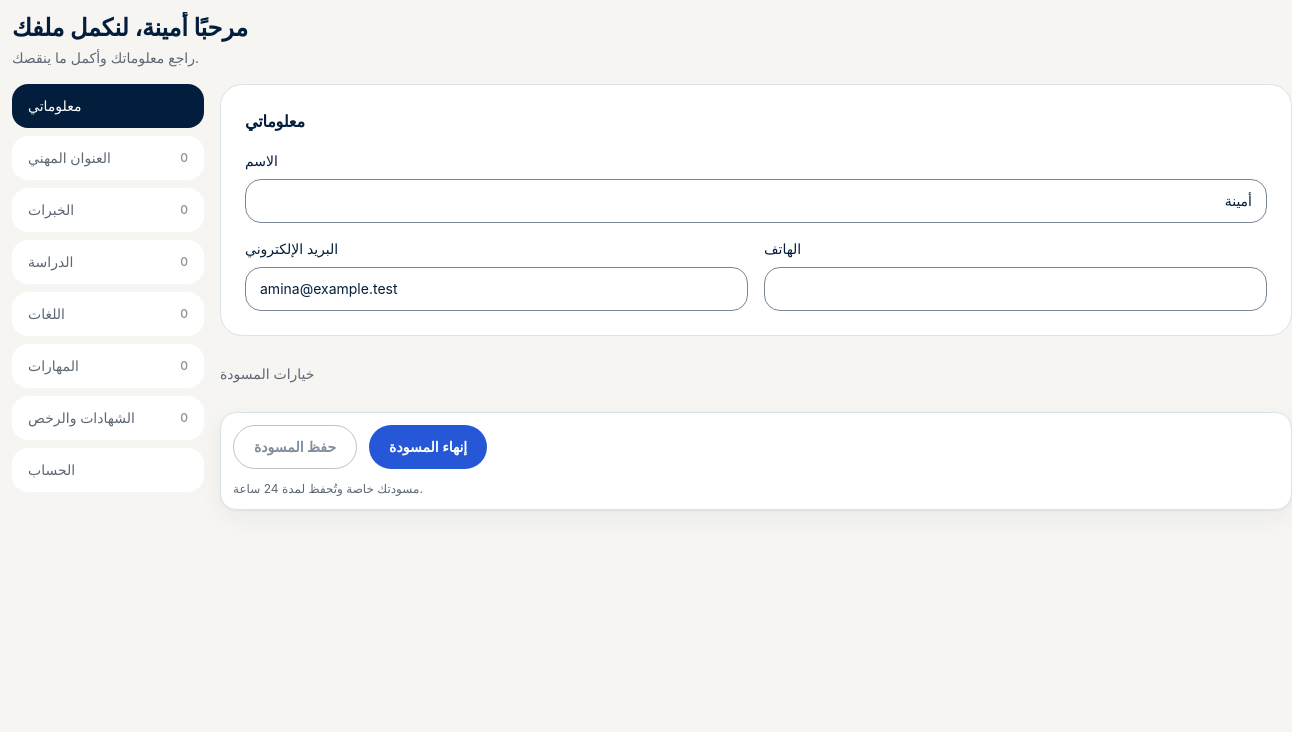
it: guest professional draft › keeps failed saves editable and allows an explicit retry
The width and height of the screenshot is (1292, 732).
Replace the text in the field labelled "الاسم" with "محفوظ محليا" at (756, 201), box x1=245 y1=179 x2=1267 y2=223
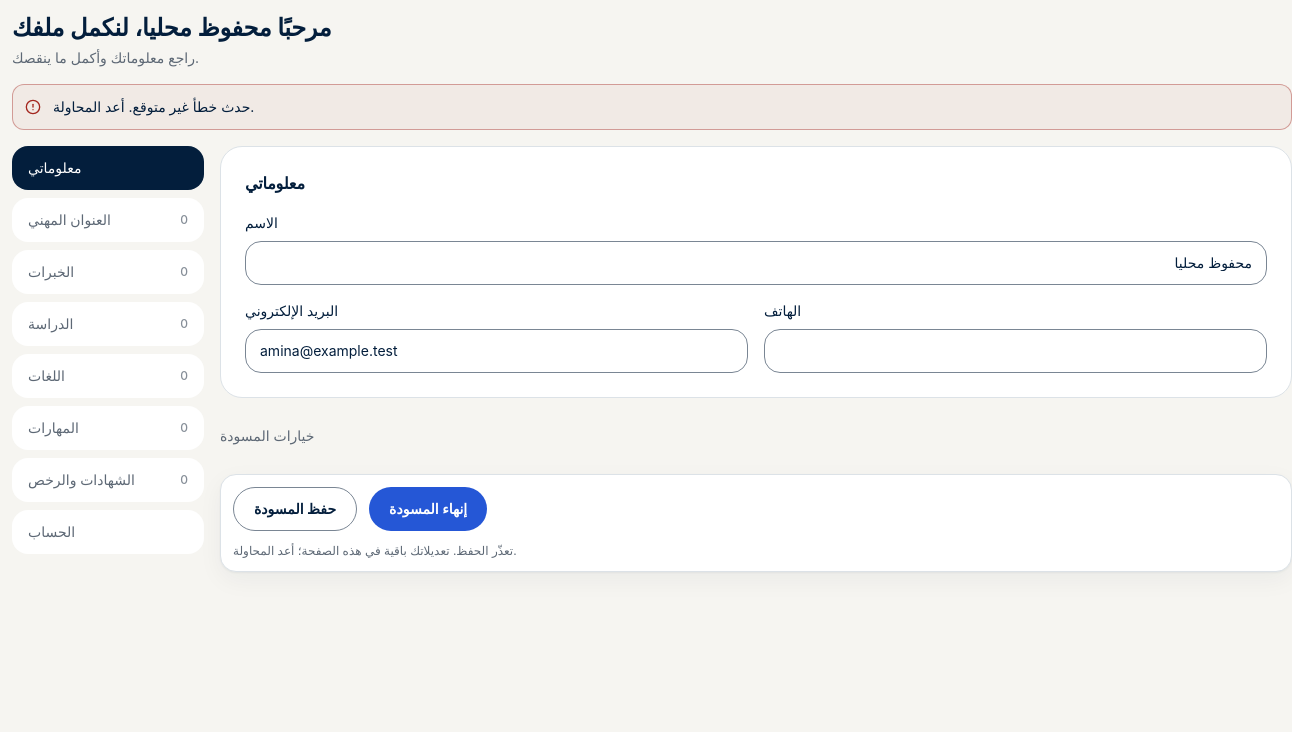
Now the text "تعذّر الحفظ. تعديلاتك باقية في هذه الصفحة؛ أعد المحاولة." is shown, box x1=233 y1=543 x2=517 y2=558
Click the button "حفظ المسودة" at (295, 509), box x1=233 y1=487 x2=357 y2=531
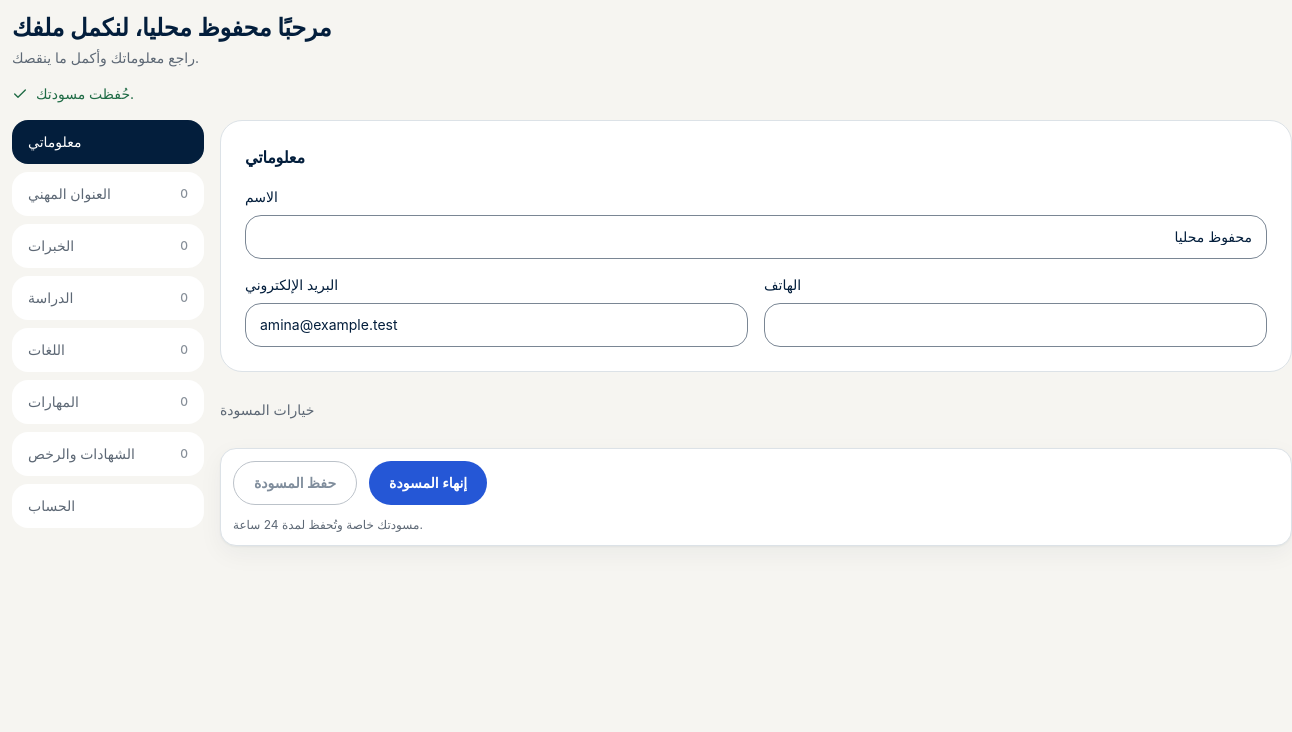
Now the text "حُفظت مسودتك." is shown, box x1=12 y1=85 x2=134 y2=102
